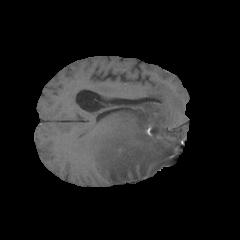glioma: (88, 83, 187, 183)
